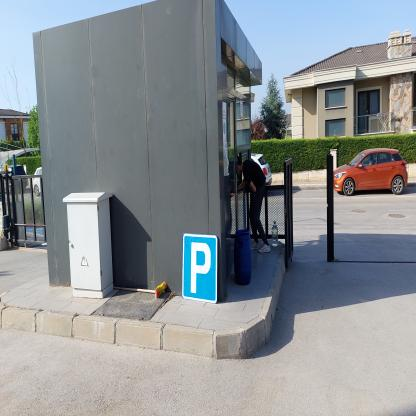Parking-Sign: (183, 234, 219, 305)
